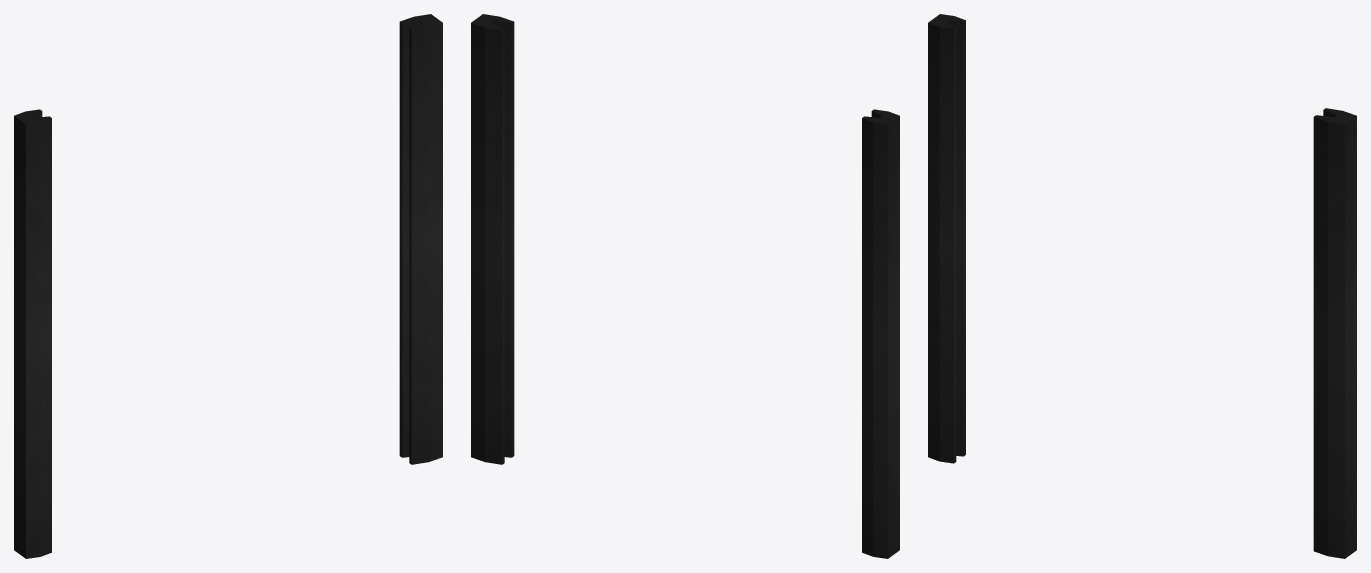
File: Barrier.glb
The picture shows the model from 3 angles, left to right: view 1: azimuth 30°, elevation 25°; view 2: azimuth 150°, elevation 25°; view 3: azimuth 330°, elevation 25°; orthographic projection.
Visible parts, largest first — view 1: Frame_2, Frame_1; view 2: Frame_2, Frame_1; view 3: Frame_2, Frame_1.
Part boxes in pixels (bbox=[...]): Frame_2: bbox=[399, 14, 442, 464]; Frame_1: bbox=[14, 109, 51, 558]; Frame_2: bbox=[471, 14, 514, 464]; Frame_1: bbox=[862, 109, 899, 558]; Frame_2: bbox=[1313, 108, 1356, 558]; Frame_1: bbox=[928, 14, 965, 463].
Bounding box in the file's own units: 2.01 × 2 × 0.125.
Materials: 1 (1 with a texture image).
